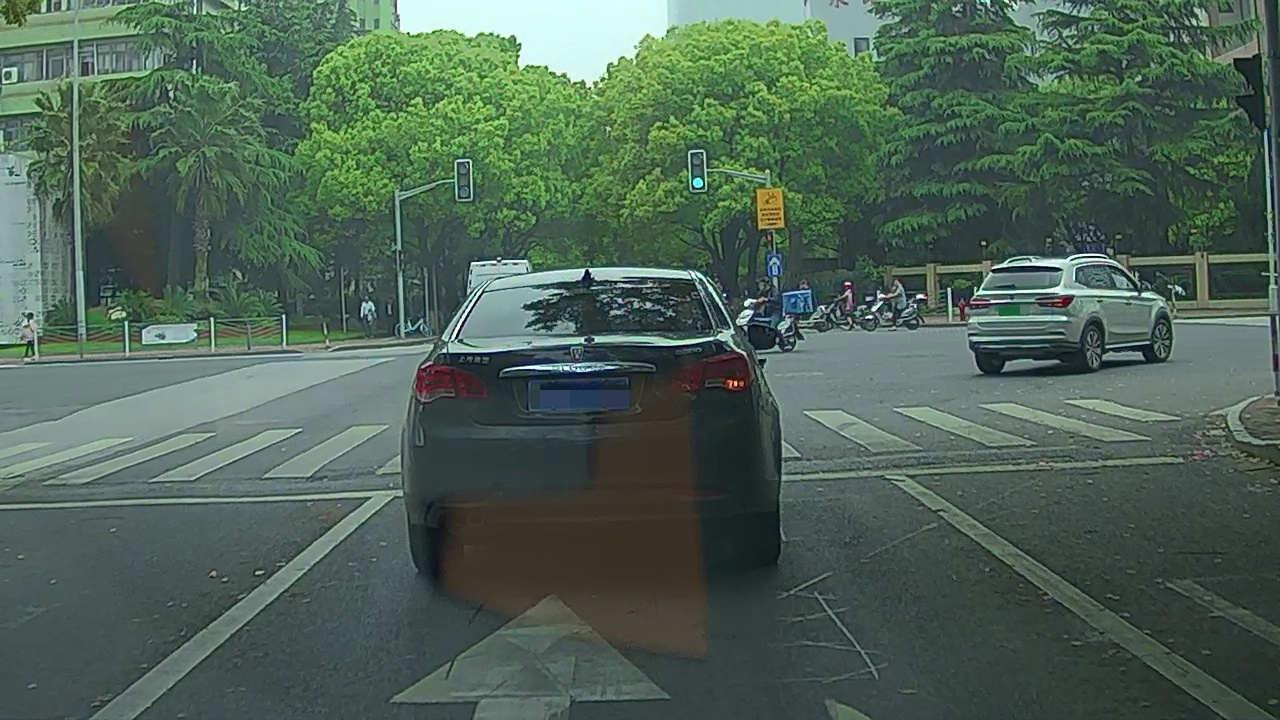traffic_light: (689, 153, 705, 191), (456, 161, 471, 200)
